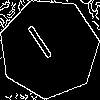I: (24, 23, 61, 69)
